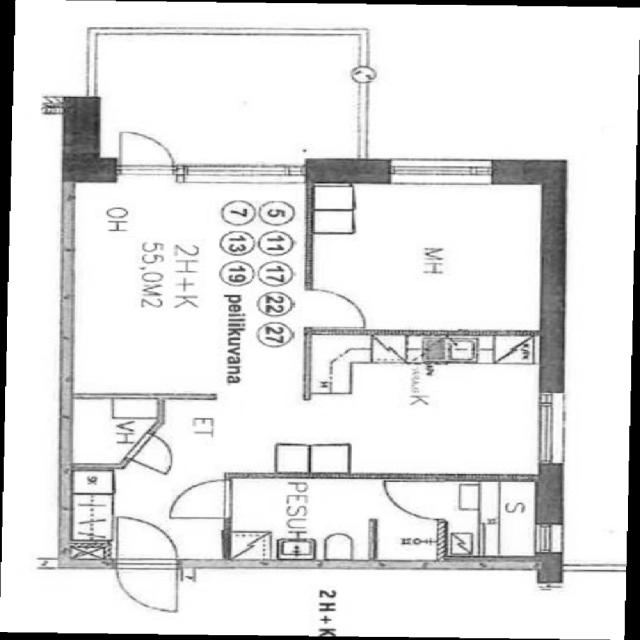door: (86, 32, 362, 168), (110, 514, 183, 616), (106, 126, 183, 184), (297, 281, 375, 334), (165, 474, 237, 526), (378, 474, 447, 526), (126, 433, 178, 472)
window: (381, 152, 503, 192), (172, 154, 310, 188), (528, 374, 574, 474), (70, 27, 110, 104), (53, 174, 84, 259), (534, 520, 572, 555)
zone: (61, 172, 312, 400), (264, 331, 549, 481), (75, 34, 373, 170), (310, 178, 550, 335), (378, 472, 550, 565), (226, 474, 382, 566), (64, 396, 164, 474)
